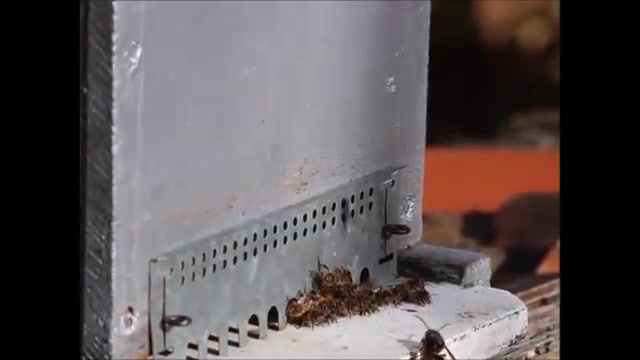bee: (289, 295, 321, 320), (403, 276, 428, 298), (321, 269, 351, 286), (353, 294, 380, 312)
hornet: (406, 322, 463, 360)
